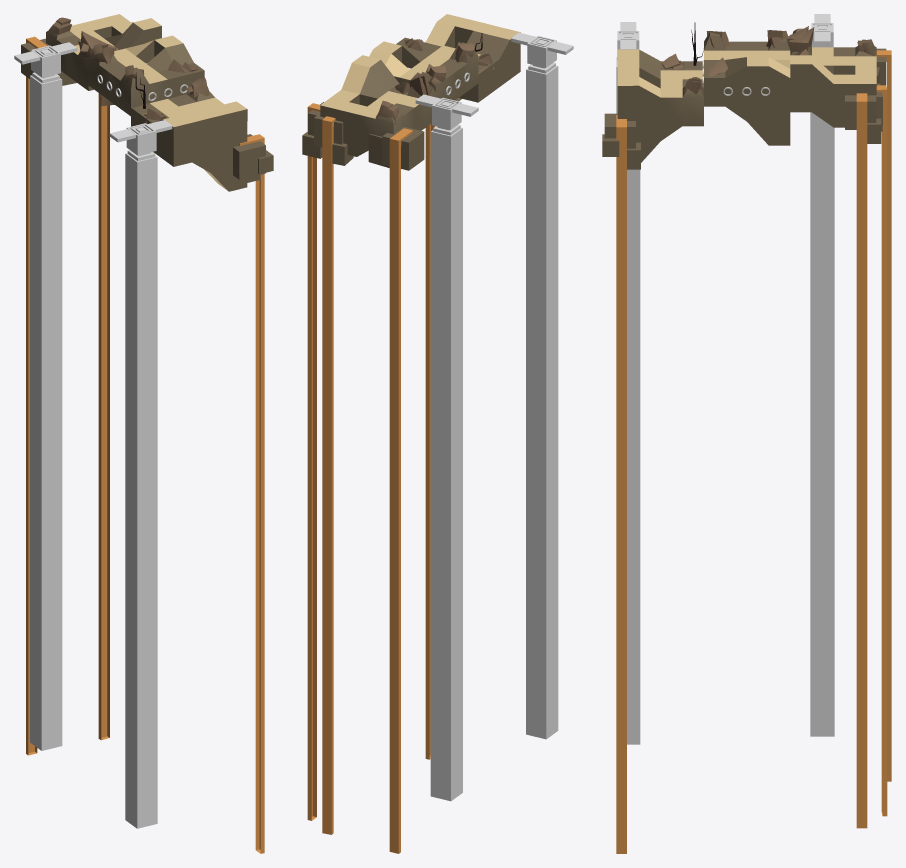
The model's file is Level 1.fbx.
3 views of the same model, side by side, from view 1: azimuth 30°, elevation 25°; view 2: azimuth 150°, elevation 25°; view 3: azimuth 270°, elevation 25° (orthographic).
Visible parts, largest first — view 1: Cube.004, Cube.002, Cube.075, Cube.084, Cube.063, Cube.055, Cube.085, PLATFORM 1 LVL 1, Cube.069, Cube.048, Cube.003; view 2: Cube.004, Cube.002, Cube.084, Cube.085, PLATFORM 1 LVL 1, Cube.075, Cube.063, Cube.055, Cube.048, Cube.003, Cube.069; view 3: Cube.002, Cube.084, Cube.075, Cube.004, Cube.055, Cube.063, Cube.085, PLATFORM 1 LVL 1, Cube.069, Cube.048, Cube.003.
Boxes of the visible parts, x1,y1,x2,y2 form: Cube.004: (109,120,172,828); Cube.002: (14,42,77,750); Cube.075: (233,134,273,853); Cube.084: (98,22,132,740); Cube.063: (131,91,247,191); Cube.055: (88,40,204,116); Cube.085: (21,36,76,755); PLATFORM 1 LVL 1: (46,22,161,90); Cube.069: (150,97,246,191); Cube.048: (70,14,161,54); Cube.003: (114,35,182,83); Cube.004: (511,32,573,739); Cube.002: (415,94,478,801); Cube.084: (302,102,343,834); Cube.085: (368,126,424,853); PLATFORM 1 LVL 1: (320,60,435,156); Cube.075: (425,123,434,759); Cube.063: (444,26,520,102); Cube.055: (391,37,478,100); Cube.048: (320,55,418,118); Cube.003: (369,41,454,79); Cube.069: (425,14,520,101); Cube.002: (810,14,834,736); Cube.084: (845,83,887,828); Cube.075: (602,113,640,853); Cube.004: (616,22,640,744); Cube.055: (704,32,790,145); Cube.063: (617,49,703,162); Cube.085: (876,48,891,781); PLATFORM 1 LVL 1: (790,46,876,127); Cube.069: (617,49,702,97); Cube.048: (790,47,876,83); Cube.003: (704,50,790,77).
Bounding box in the file's own units: 800 × 4024 × 1342.
